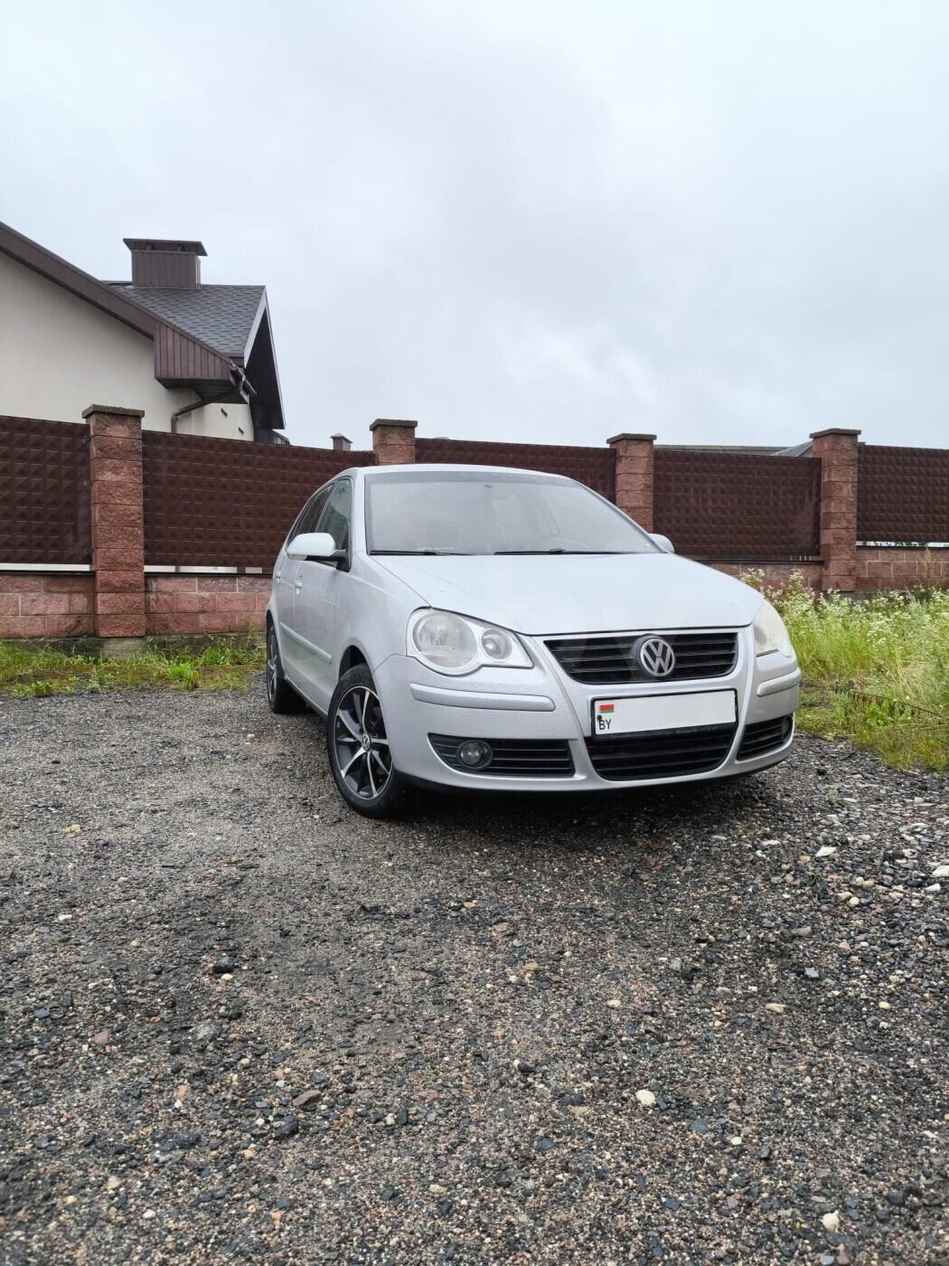Polo_2005-2009: (246, 449, 804, 848)
